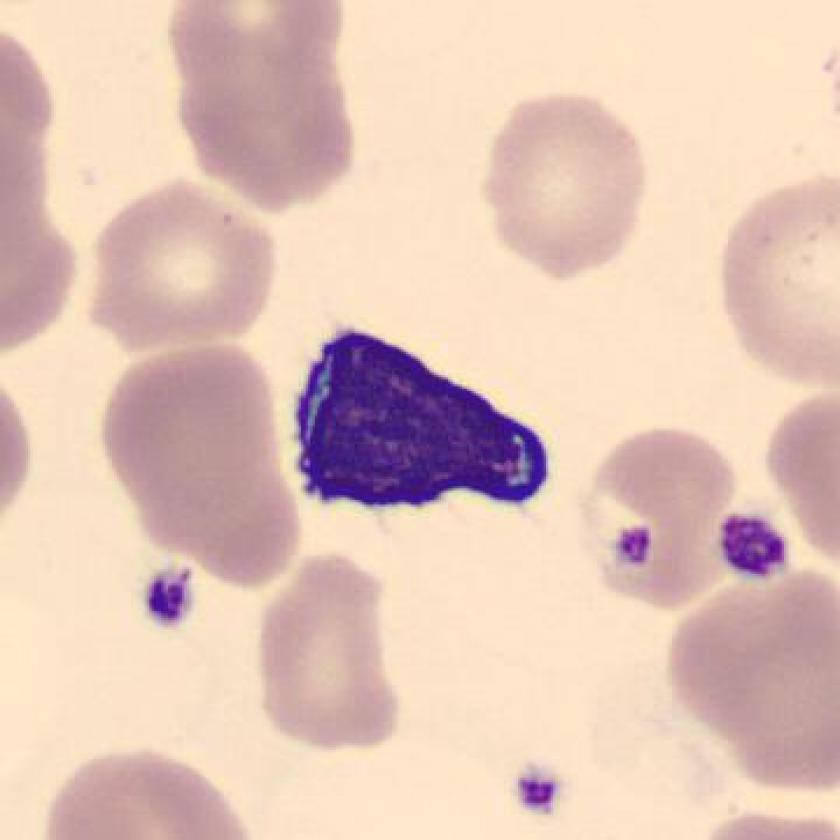lymphocyte: (279, 309, 566, 547)
platelets: (711, 500, 799, 587), (135, 560, 202, 626), (510, 761, 567, 827), (614, 522, 660, 569)
